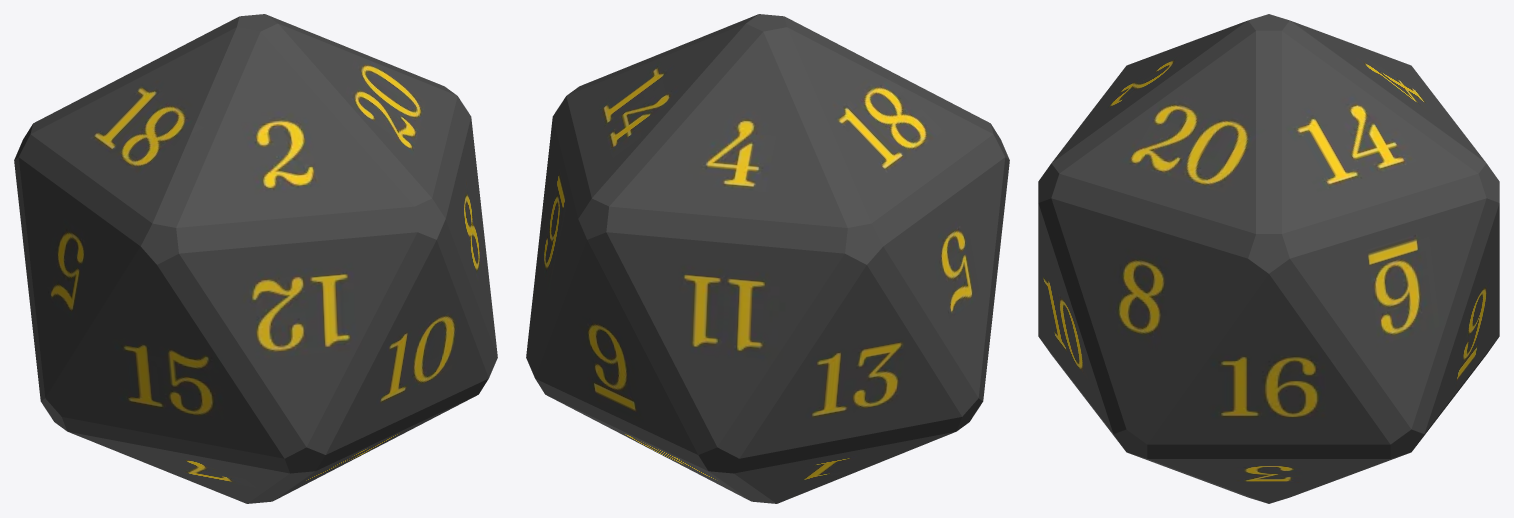
The model's file is D20Gilded.glb.
The picture shows the model from 3 angles, left to right: view 1: azimuth 30°, elevation 25°; view 2: azimuth 150°, elevation 25°; view 3: azimuth 270°, elevation 25°; orthographic projection.
Visible parts, largest first — view 1: D20Gilded; view 2: D20Gilded; view 3: D20Gilded.
Part boxes in pixels (bbox=[...]): D20Gilded: bbox=[14, 14, 497, 503]; D20Gilded: bbox=[526, 14, 1009, 503]; D20Gilded: bbox=[1038, 14, 1499, 503].
Bounding box in the file's own units: 2.8 × 3.01 × 2.66.
1 material, 1 textured.
